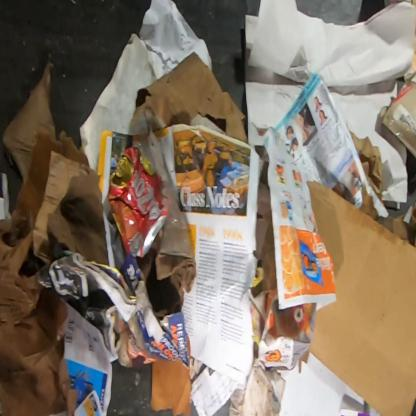cardboard: (0, 130, 110, 415), (307, 181, 415, 415), (128, 52, 247, 142), (379, 67, 416, 160), (150, 359, 192, 415), (298, 347, 309, 373)
metal: (106, 140, 170, 258)
soft_plastic: (135, 133, 194, 261)
